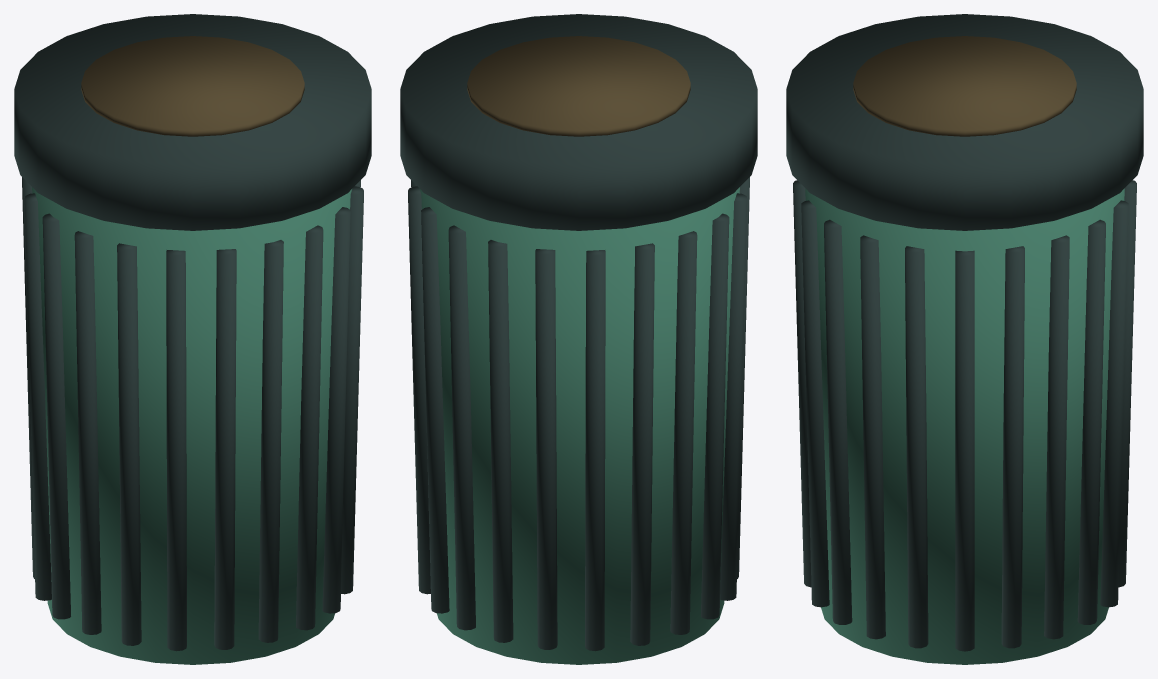
File: TrashCan.glb
The picture shows the model from 3 angles, left to right: view 1: azimuth 30°, elevation 25°; view 2: azimuth 150°, elevation 25°; view 3: azimuth 270°, elevation 25°; orthographic projection.
Visible parts, largest first — view 1: RK_TrashCan_RK_Iron, RK_TrashCan_RK_Teal, RK_TrashCan_RK_Soil; view 2: RK_TrashCan_RK_Iron, RK_TrashCan_RK_Teal, RK_TrashCan_RK_Soil; view 3: RK_TrashCan_RK_Iron, RK_TrashCan_RK_Teal, RK_TrashCan_RK_Soil.
Boxes of the visible parts, bbox=[...] form: RK_TrashCan_RK_Iron: bbox=[14, 14, 371, 651]; RK_TrashCan_RK_Teal: bbox=[32, 187, 351, 664]; RK_TrashCan_RK_Soil: bbox=[81, 36, 304, 136]; RK_TrashCan_RK_Iron: bbox=[400, 14, 757, 651]; RK_TrashCan_RK_Teal: bbox=[420, 187, 739, 664]; RK_TrashCan_RK_Soil: bbox=[467, 36, 690, 136]; RK_TrashCan_RK_Iron: bbox=[786, 14, 1143, 651]; RK_TrashCan_RK_Teal: bbox=[805, 188, 1124, 664]; RK_TrashCan_RK_Soil: bbox=[853, 36, 1076, 136].
Bounding box in the file's own units: 0.64 × 1.03 × 0.64.
